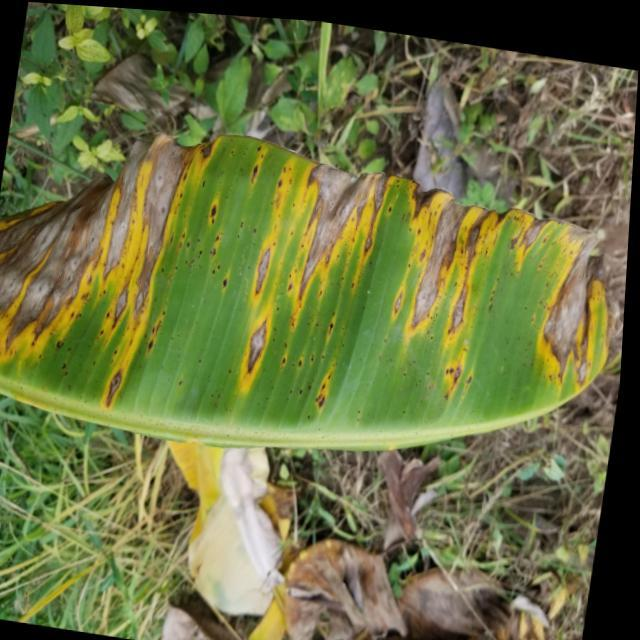Early_rust: (0, 110, 620, 514)
